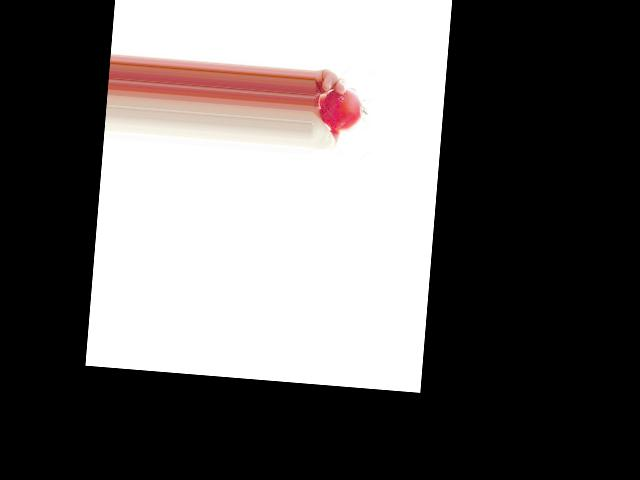tomato: (319, 85, 365, 133)
